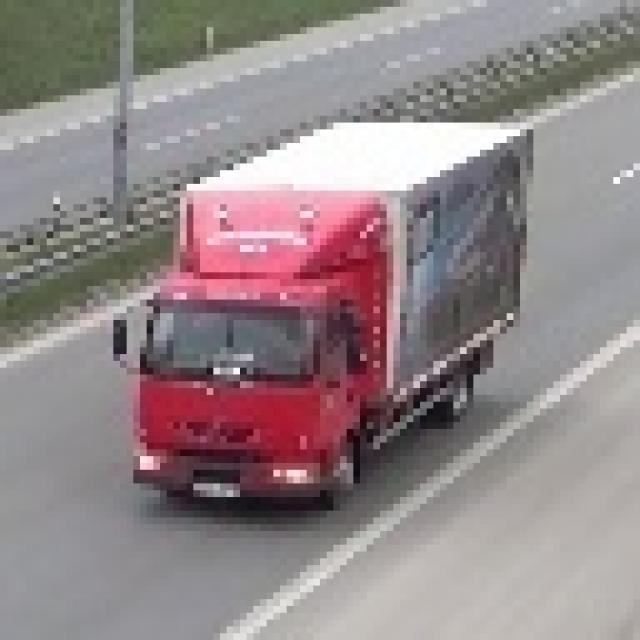truck: (95, 194, 411, 528)
